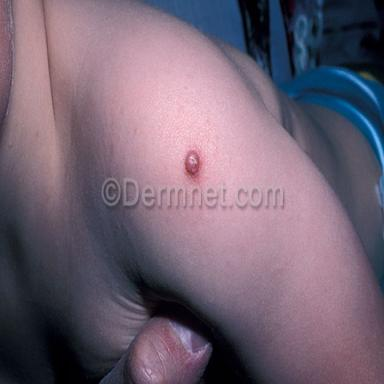Molluscum-Contagiosum: (185, 150, 199, 175)
